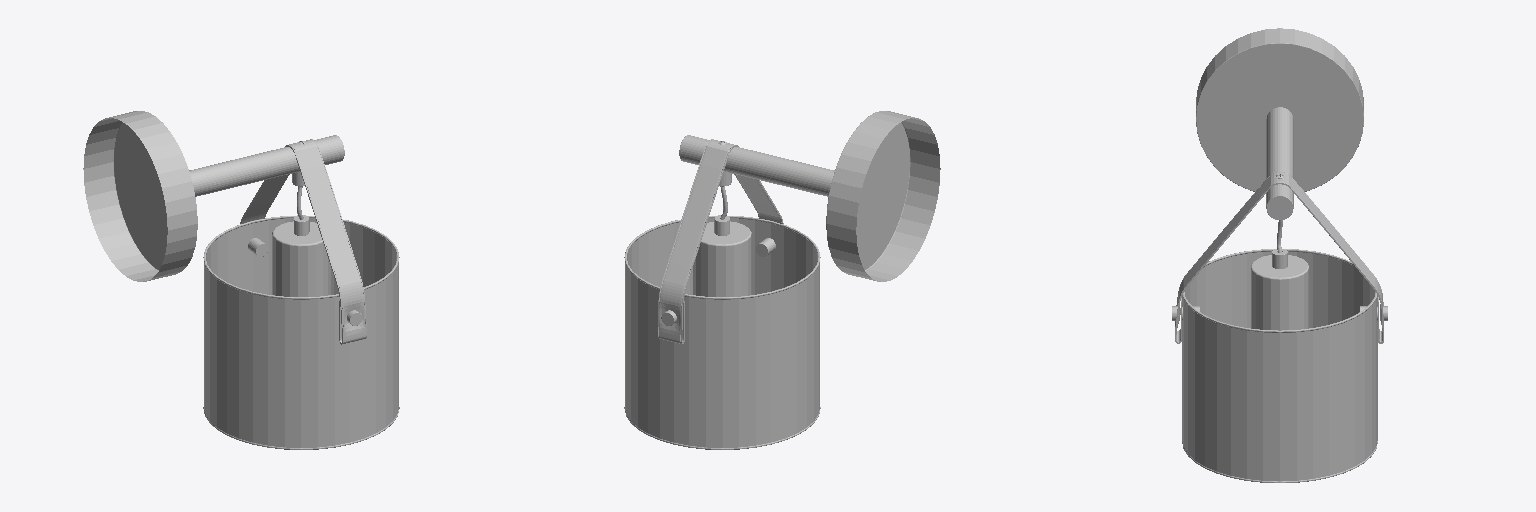
3 renders of one model, left to right at view 1: azimuth 30°, elevation 25°; view 2: azimuth 150°, elevation 25°; view 3: azimuth 270°, elevation 25°, orthographic.
Parts seen in each view (by area): view 1: Cylinder009, Cylinder007, Group[number redacted], Line203, Cylinder008; view 2: Cylinder009, Cylinder007, Group[number redacted], Line203, Cylinder008; view 3: Cylinder009, Cylinder007, Line203, Group[number redacted], Cylinder008.
Part boxes in pixels (x1,y1,x2,y2): Cylinder009: (203, 215, 399, 449); Cylinder007: (83, 111, 197, 281); Group[number redacted]: (240, 139, 366, 344); Line203: (272, 221, 330, 296); Cylinder008: (151, 135, 344, 202); Cylinder009: (624, 215, 820, 449); Cylinder007: (826, 111, 940, 281); Group[number redacted]: (658, 139, 783, 343); Line203: (693, 221, 751, 296); Cylinder008: (679, 135, 874, 202); Cylinder009: (1182, 249, 1377, 482); Cylinder007: (1196, 28, 1363, 191); Line203: (1251, 255, 1308, 330); Group[number redacted]: (1175, 171, 1383, 343); Cylinder008: (1266, 107, 1293, 219).
Bounding box in the file's own units: 21.48 × 25.83 × 15.42.